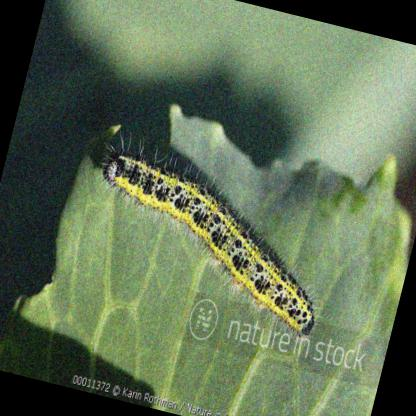pieris: (97, 128, 324, 335)
